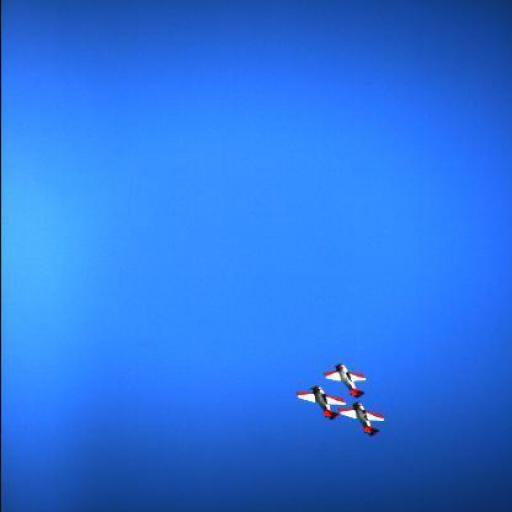aircraft: (295, 385, 346, 420), (339, 402, 386, 435), (324, 364, 367, 398)
